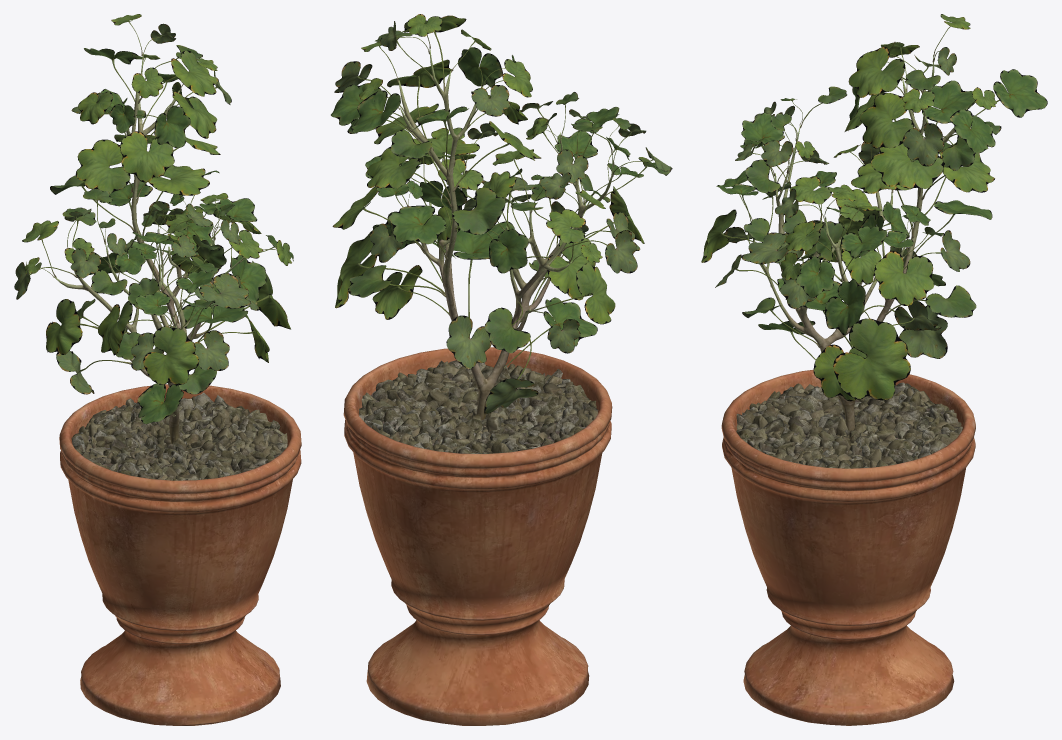
Rendered from potted_plant_01.glb.
The picture shows the model from 3 angles, left to right: view 1: azimuth 30°, elevation 25°; view 2: azimuth 150°, elevation 25°; view 3: azimuth 270°, elevation 25°; orthographic projection. The views are drawn at different scales.
Visible parts, largest first — view 1: potted_plant_01_pot, potted_plant_01_leaves, potted_plant_01_pebbles, potted_plant_01_stem; view 2: potted_plant_01_pot, potted_plant_01_leaves, potted_plant_01_pebbles, potted_plant_01_stem; view 3: potted_plant_01_pot, potted_plant_01_leaves, potted_plant_01_pebbles, potted_plant_01_stem.
Part boxes in pixels (x1,y1,x2,y2): potted_plant_01_pot: [59, 384, 301, 725]; potted_plant_01_leaves: [14, 14, 293, 424]; potted_plant_01_pebbles: [71, 392, 287, 480]; potted_plant_01_stem: [54, 54, 244, 443]; potted_plant_01_pot: [343, 347, 612, 725]; potted_plant_01_leaves: [331, 14, 672, 414]; potted_plant_01_pebbles: [359, 360, 597, 453]; potted_plant_01_stem: [398, 49, 613, 420]; potted_plant_01_pot: [721, 369, 975, 725]; potted_plant_01_leaves: [701, 14, 1047, 401]; potted_plant_01_pebbles: [736, 382, 962, 468]; potted_plant_01_stem: [753, 55, 967, 431].
Size of the model in its own units: 0.5874 by 1.34 by 0.6336.
2 materials, 2 textured.
